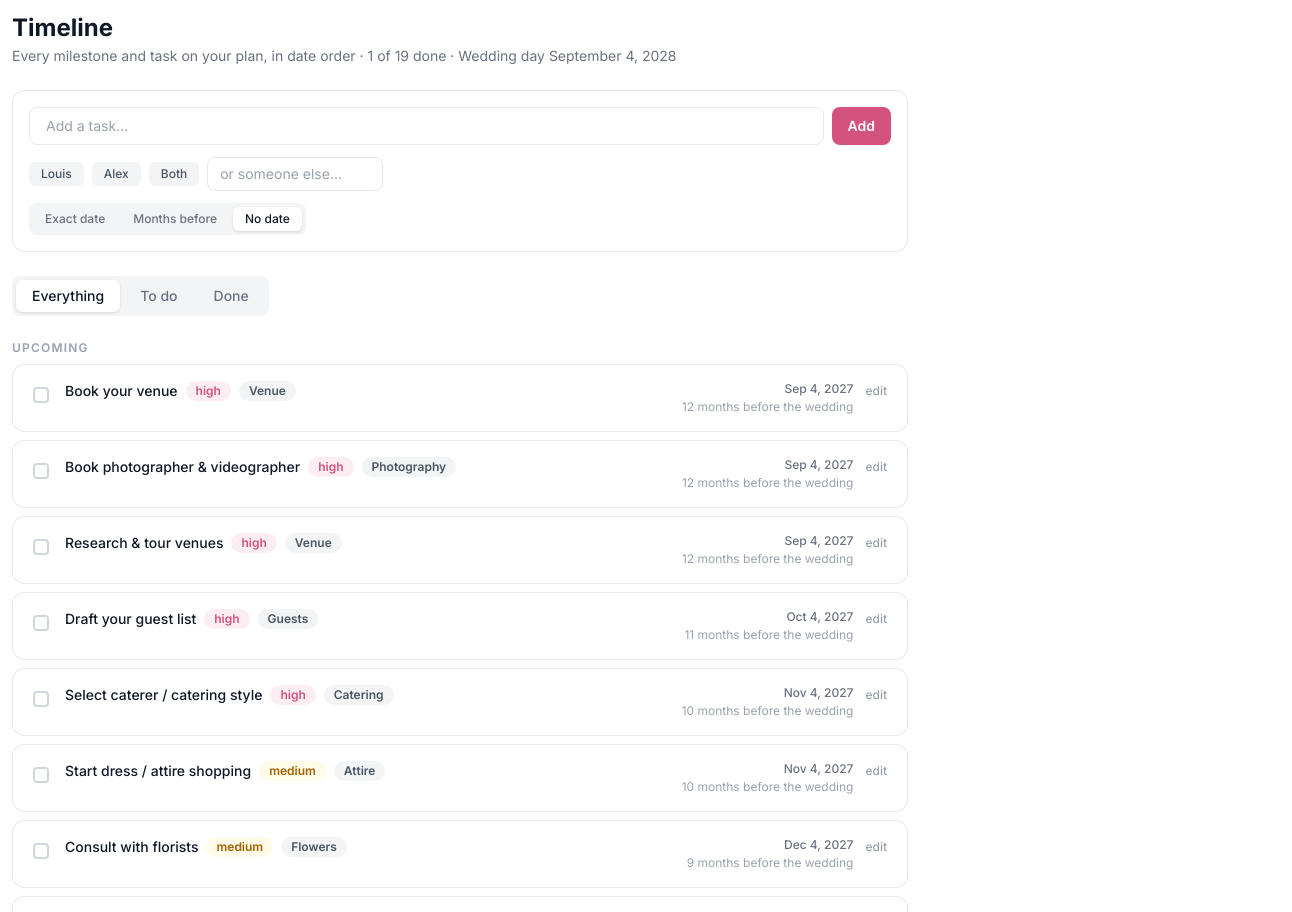
Test: Timeline — editing the task itself › changes category and priority
Click the button named "Edit \"Book your venue\"": click(876, 391) [865,383,887,399]
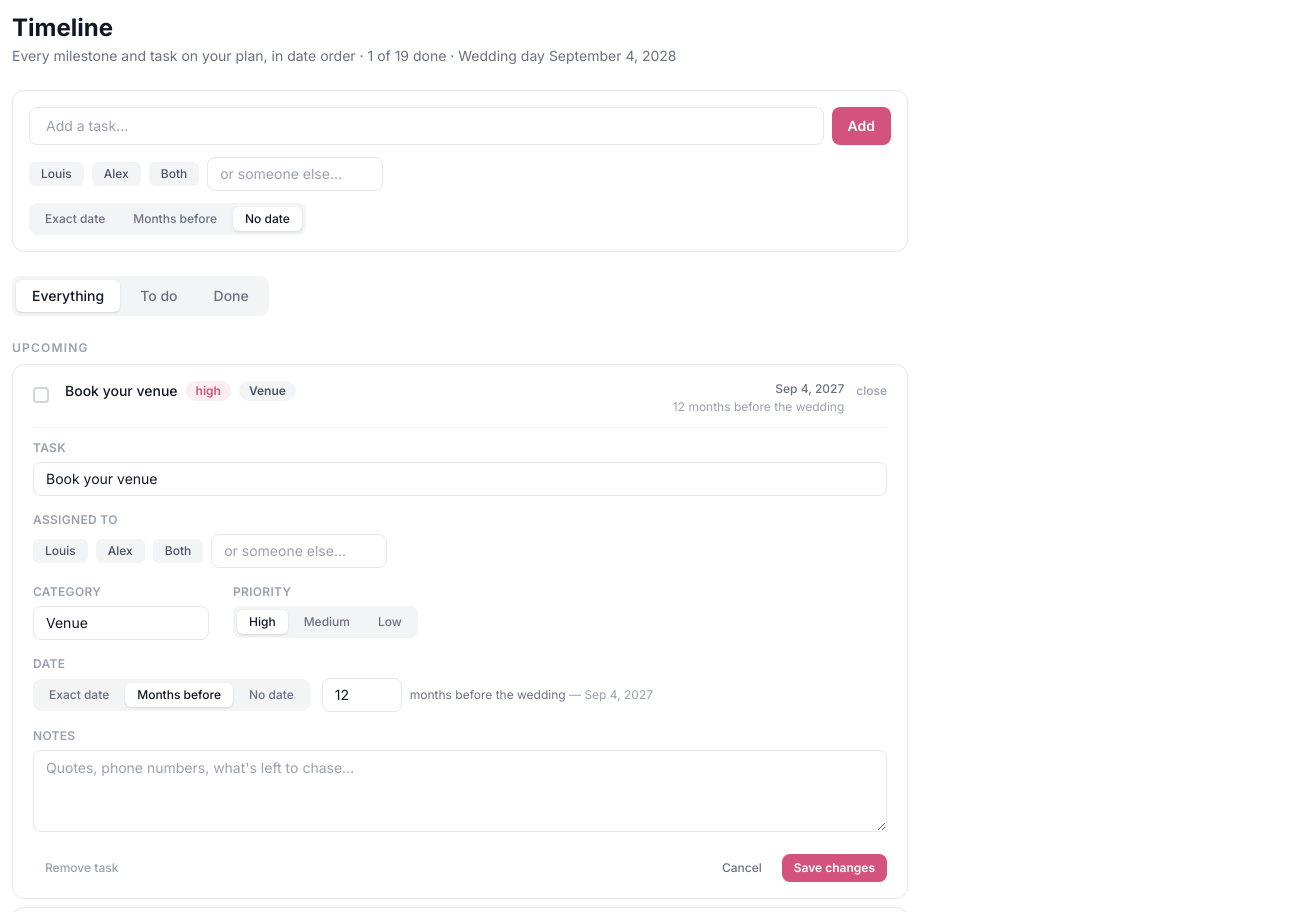
Replace the text in the field named "Book your venue category" with "Logistics": (121, 623) [33,606,209,640]
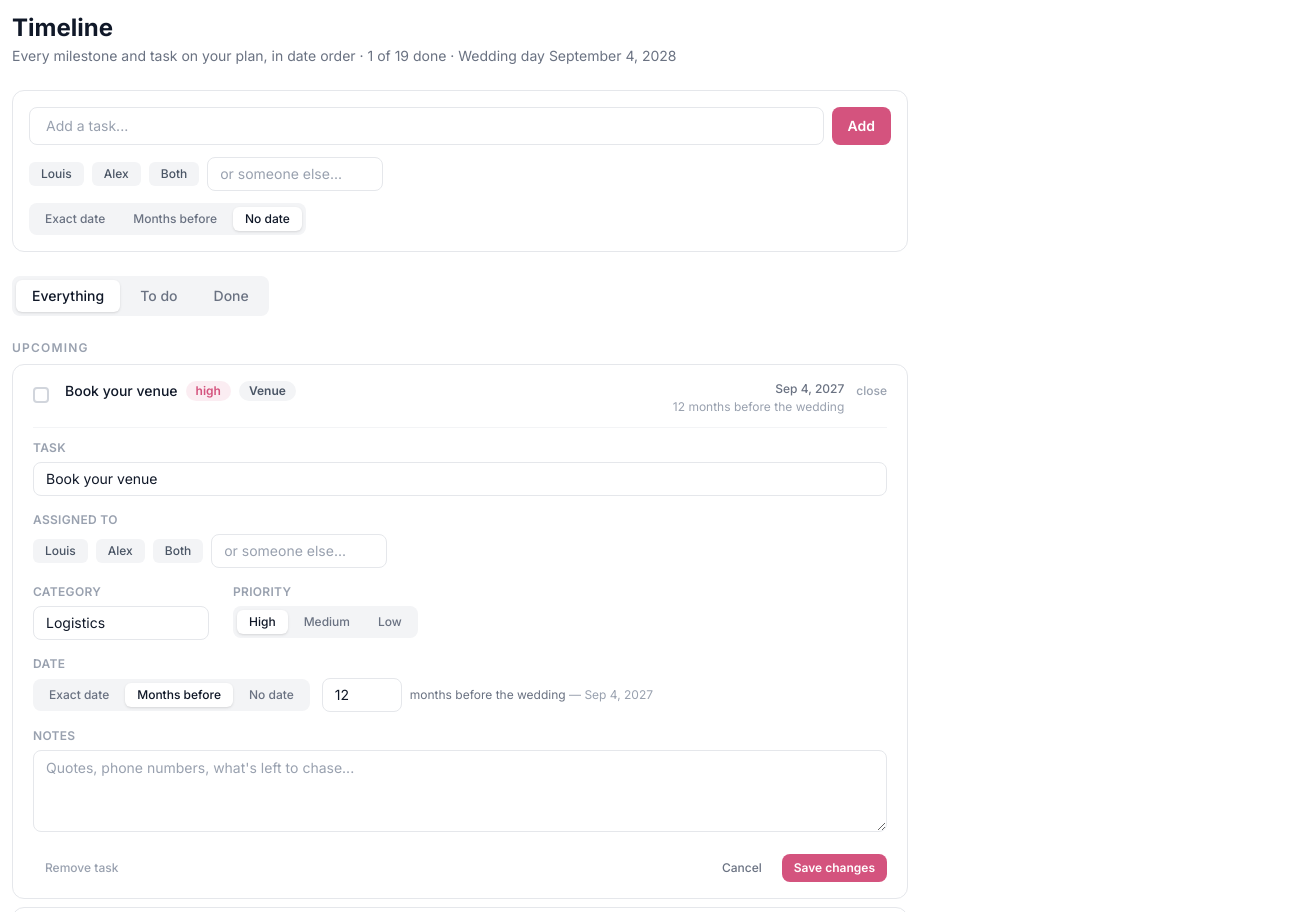
Click the button with aria-label "Book your venue priority: low": click(390, 622) [366,610,414,634]
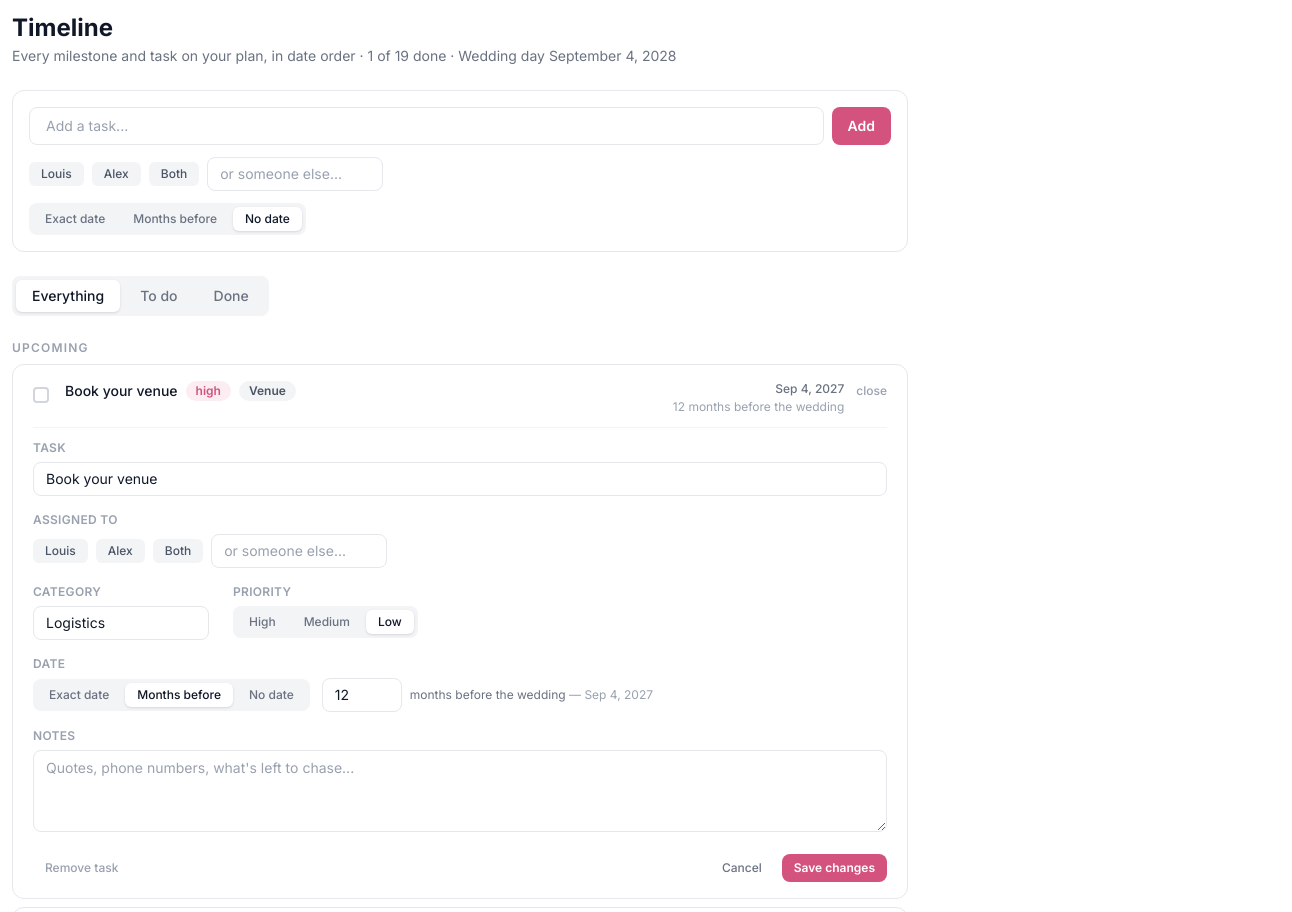
Click the button "Save changes": click(834, 868) [782,854,887,882]
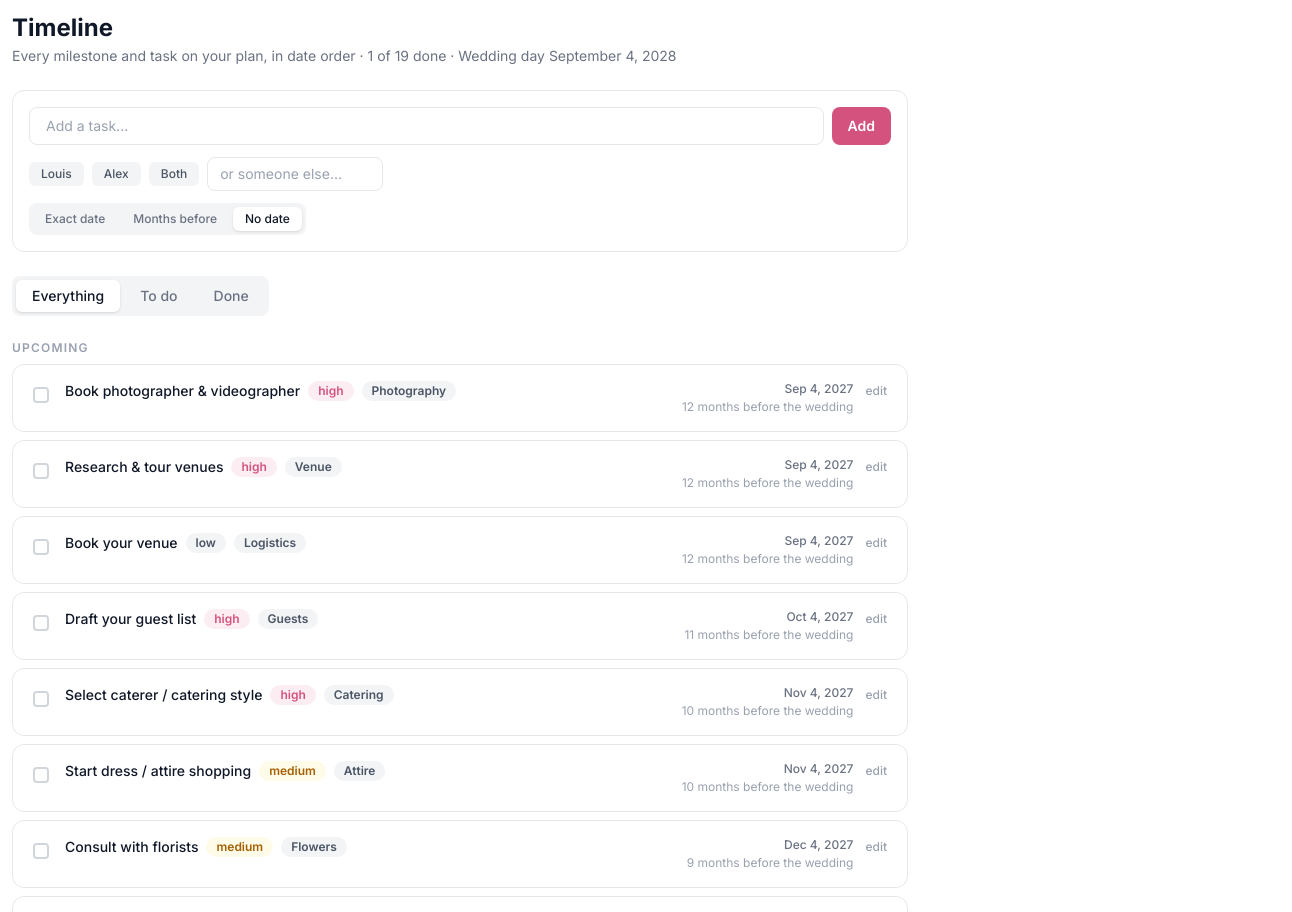
Result: the text "Logistics" is shown at [234,533,306,553]
Result: the text "low" is shown at [186,533,226,553]
